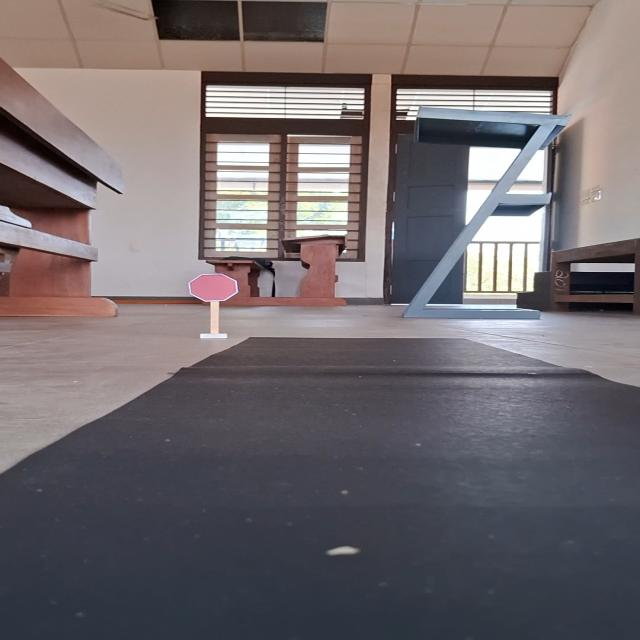Stop: (187, 273, 240, 302)
